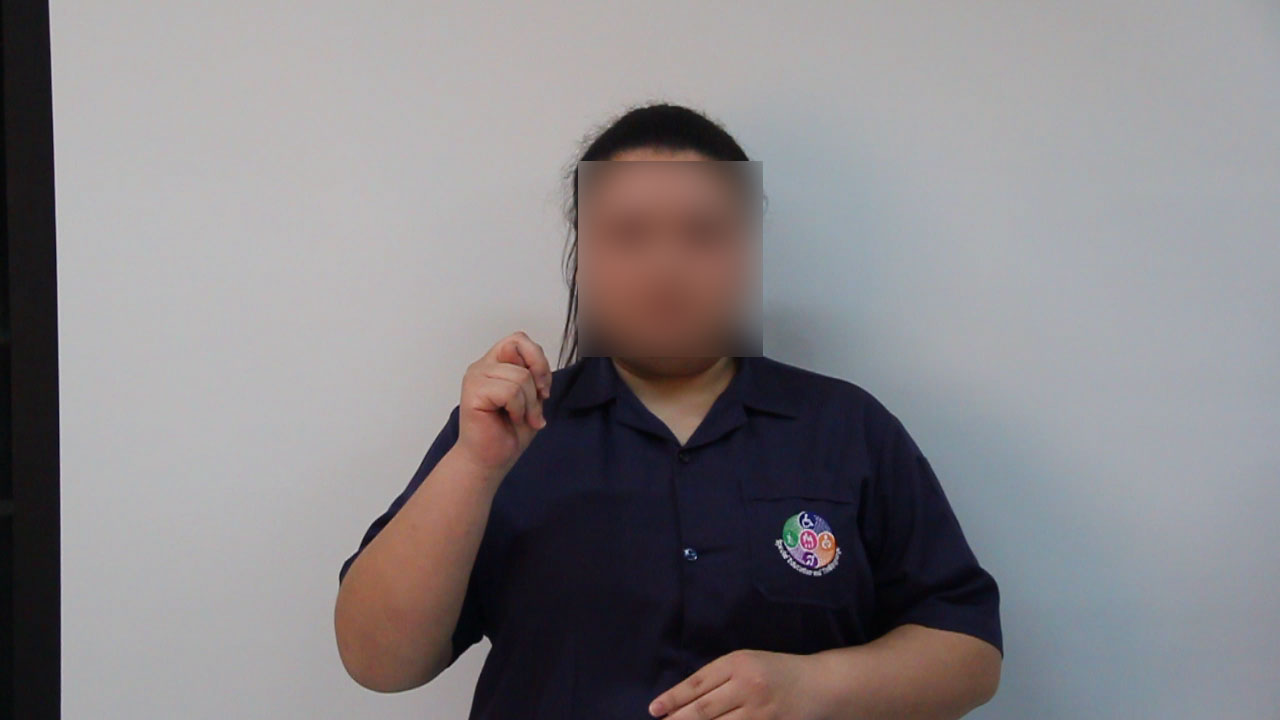nor: (434, 330, 569, 464)
